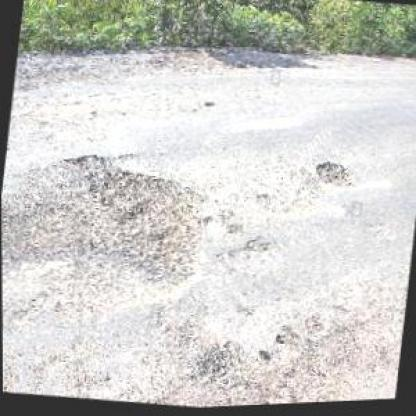pothole: (44, 143, 215, 309), (312, 158, 358, 196), (271, 324, 302, 350), (243, 237, 273, 257), (256, 350, 274, 366), (201, 100, 216, 112)
